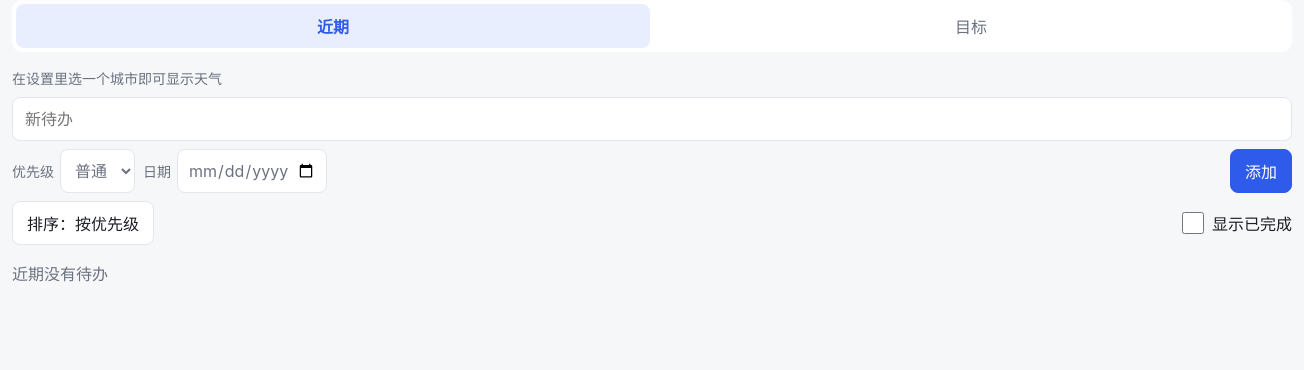
Test: adds a todo with title, priority and date from the quick form
This screenshot has width=1304, height=370.
Type "买牛奶" into the field with placeholder "新待办". click: (652, 119)
box: [12,97,1292,141]
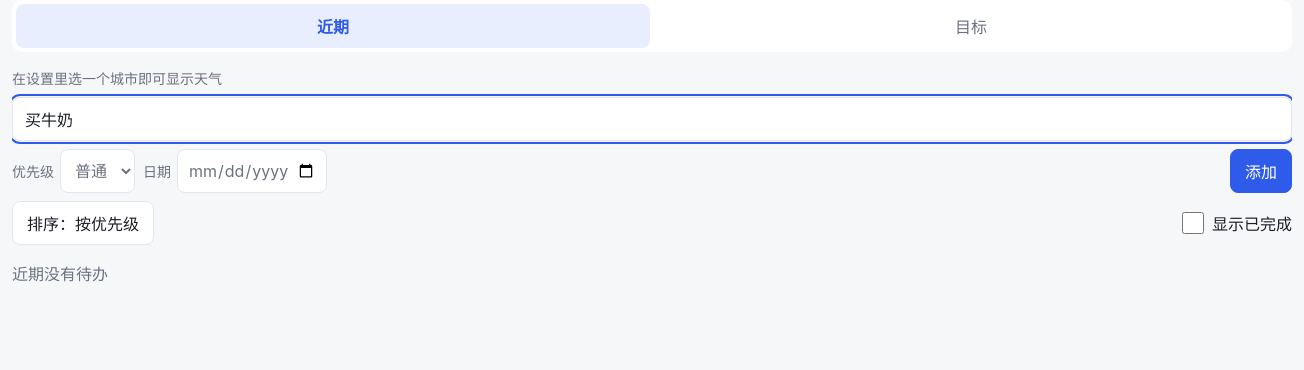
Select "高" in the dropdown labelled "优先级". click: (98, 171)
box: [60,149,135,193]
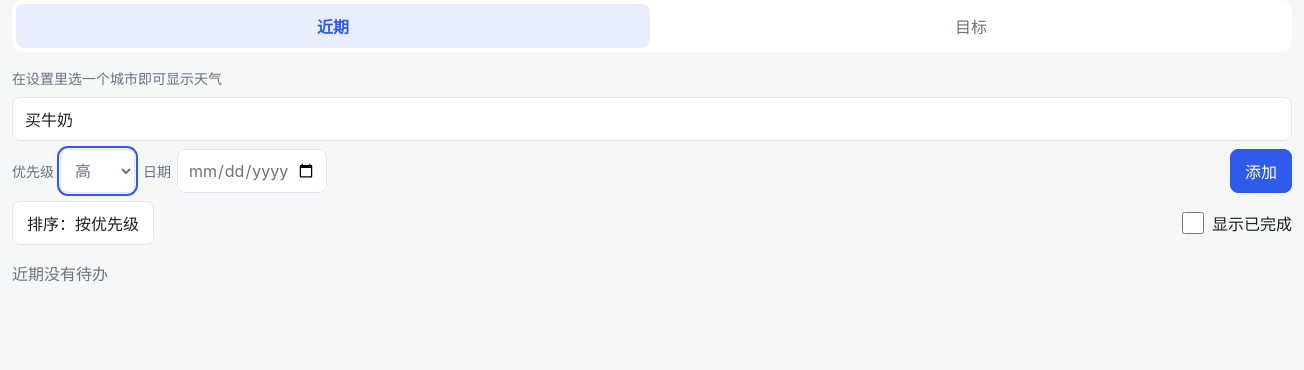
Type "2026-11-25" into the date field labelled "日期". click: (252, 171)
box: [177,149,327,193]
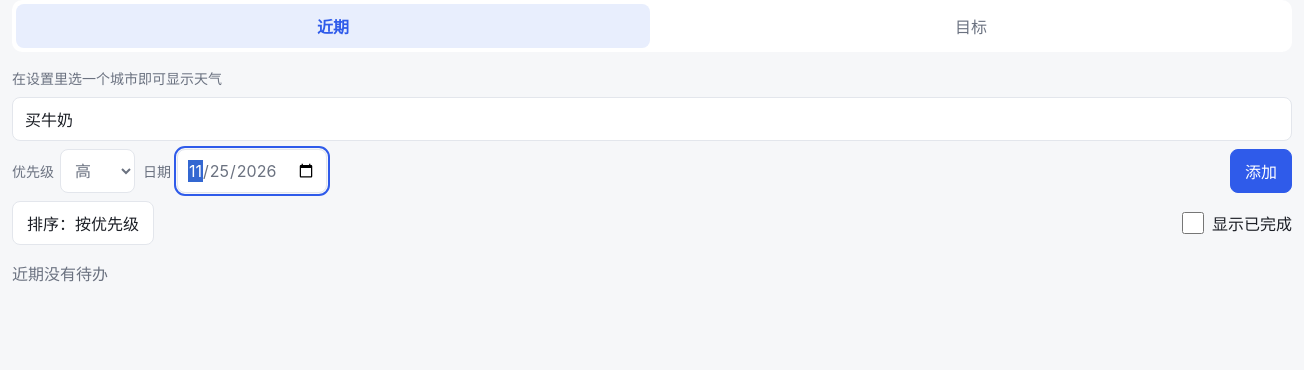
Click the button "添加". click: (1261, 171)
box: [1230,149,1292,193]
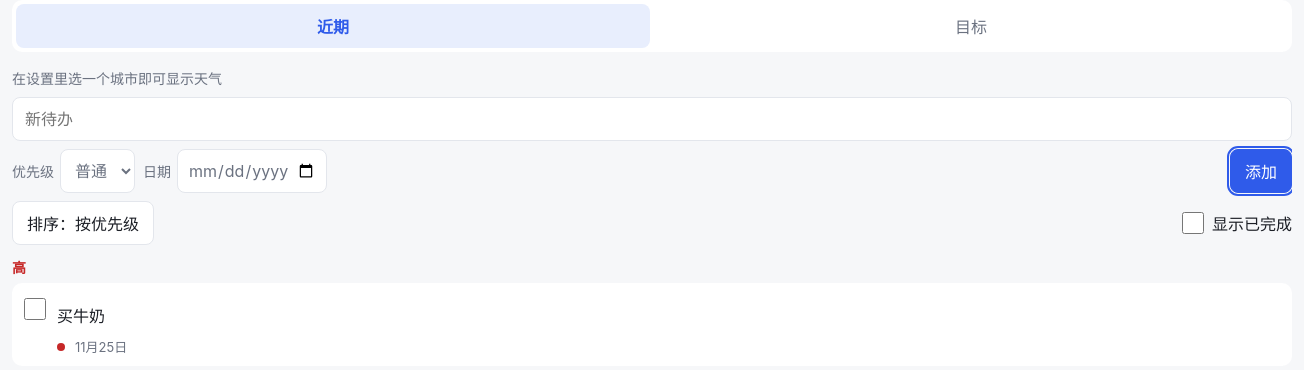
Expected: the button "买牛奶" is shown, [57,293,1280,337]
Expected: the field with placeholder "新待办" is empty, [12,97,1292,141]
